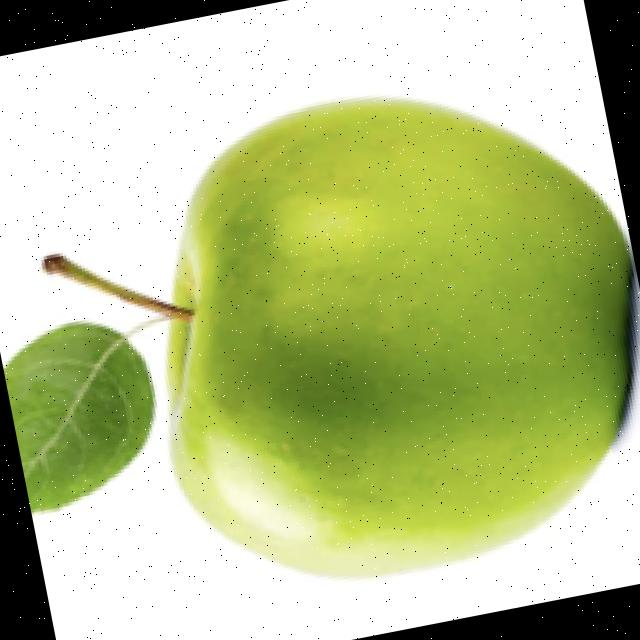apple: (2, 91, 640, 583)
